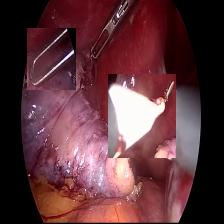Grasper: (90, 1, 138, 65), (27, 28, 76, 90)
Hook: (108, 74, 176, 158)
